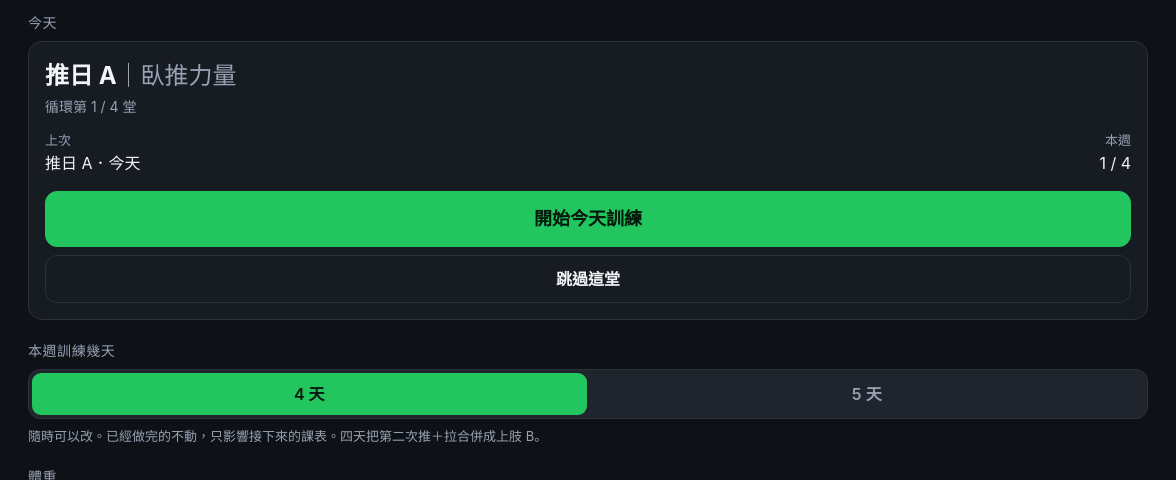
Test case: 動作層級的「今天不做這個」 › 標成今天沒做，進度分母跟著扣掉，下一個動作接手
Click the button "開始今天訓練" at (588, 218), box [45,190,1131,246]
(page scrolled)
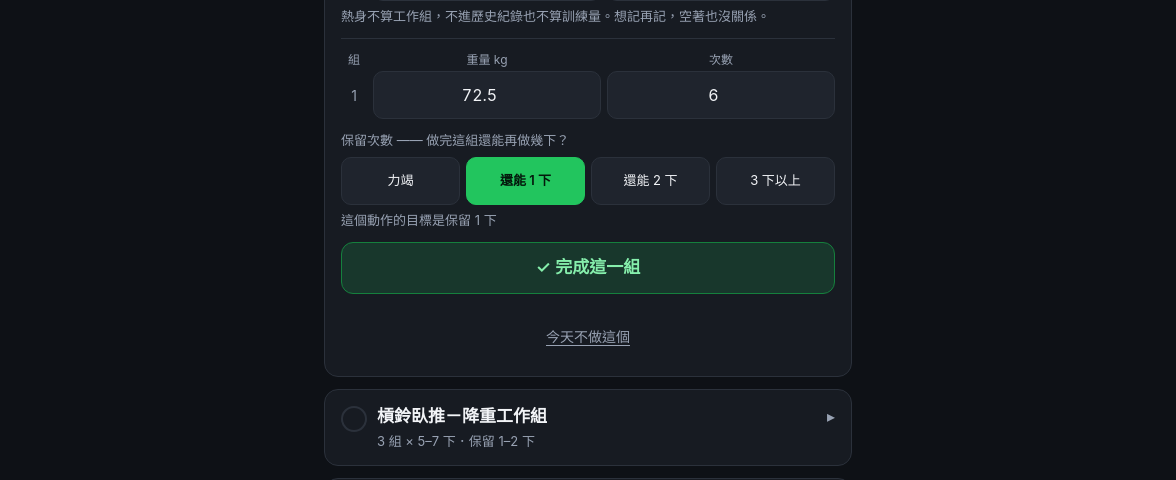
Click the button "今天不做這個" at (588, 336), box [341,312,835,360]
(page scrolled)
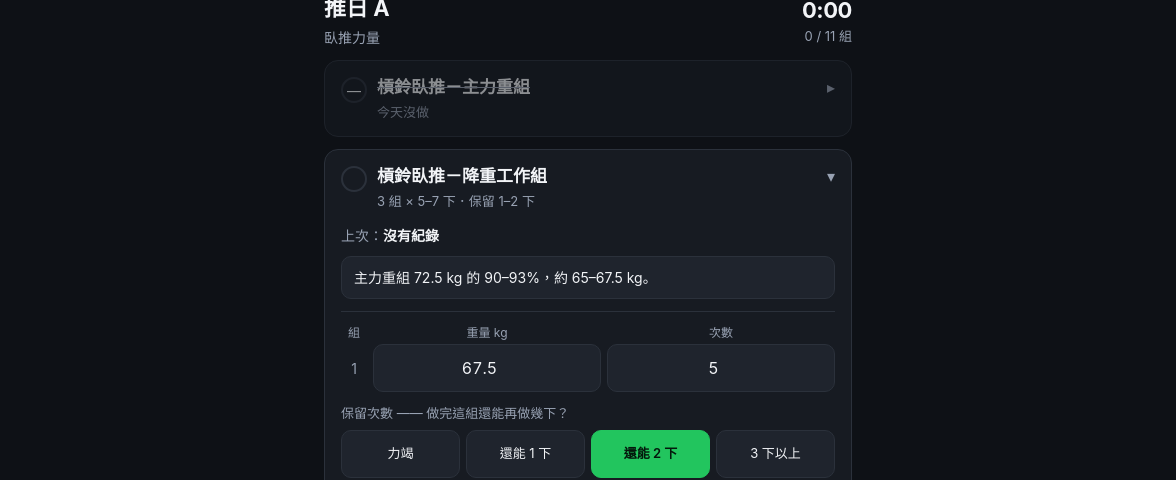
Result: the button "槓鈴臥推－降重工作組 3 組 × 5–7 下．保留 1–2 下 ▾" is shown at [325,150,851,225]
Result: the text "0 / 11 組" is shown at [802,27,852,46]
Result: the text "今天沒做" is shown at [377,104,429,120]
